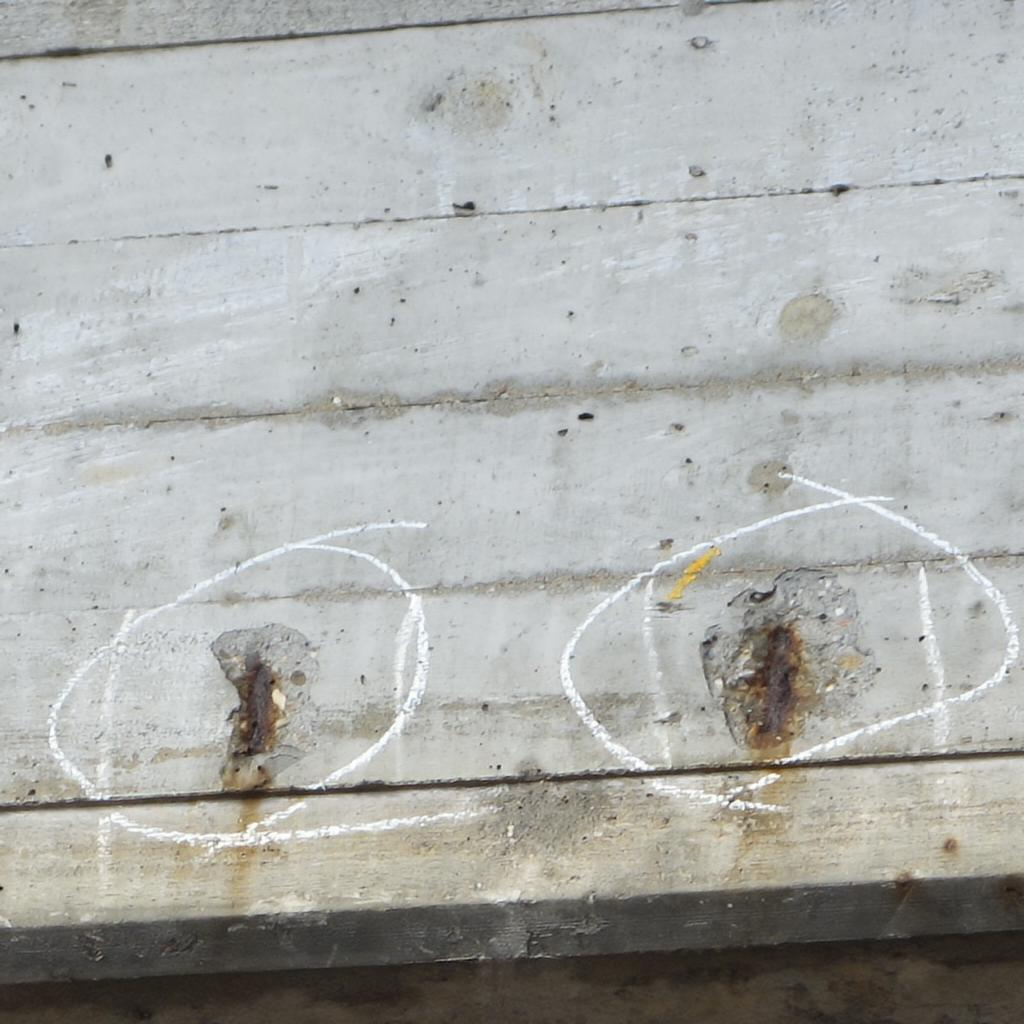exposed_rebar: (750, 626, 802, 748), (228, 652, 284, 755)
spalling: (700, 570, 878, 753), (212, 624, 318, 790)
